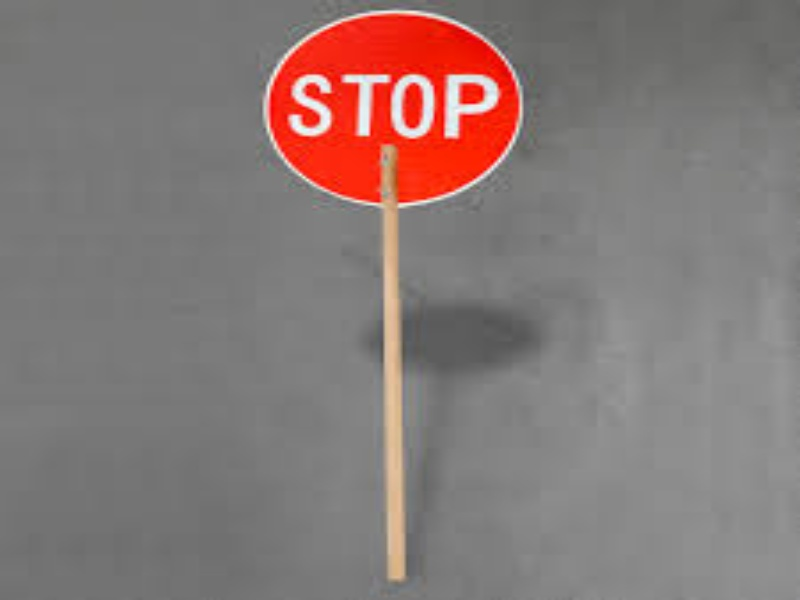Stop_Sign: (262, 14, 527, 208)
